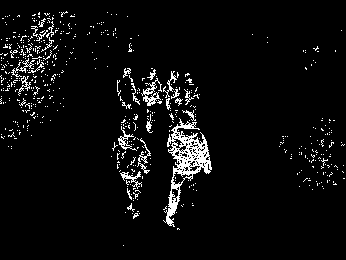person: (163, 108, 212, 230), (116, 119, 151, 220), (116, 64, 144, 113), (142, 65, 163, 111), (180, 71, 200, 113), (164, 71, 184, 110)
